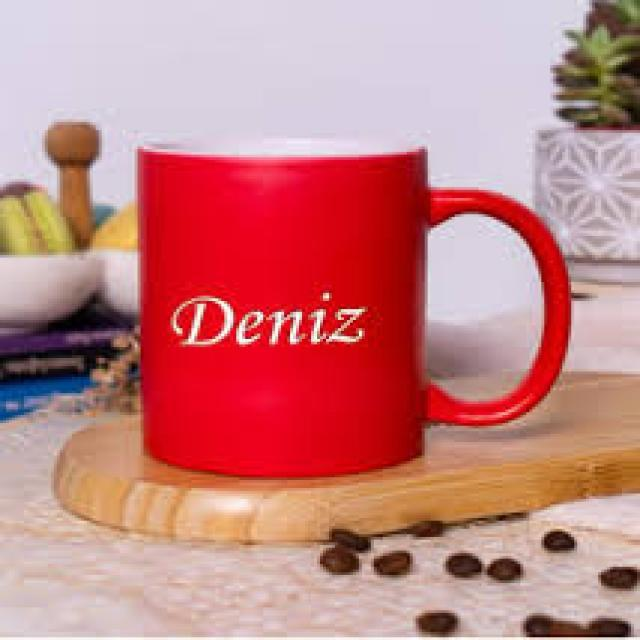taza: (132, 137, 572, 480)
